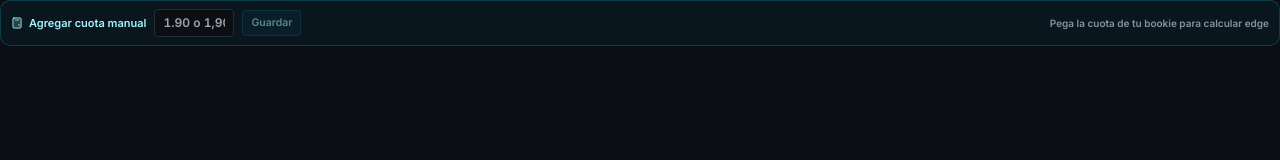
manual_odds_button_shows_recalculating
Later steps or results of the test are not shown.
Type "1.90" into the field with test id "inline-manual-odds-input-field".
click(194, 23); type("1.90")  # box [154, 9, 234, 37]
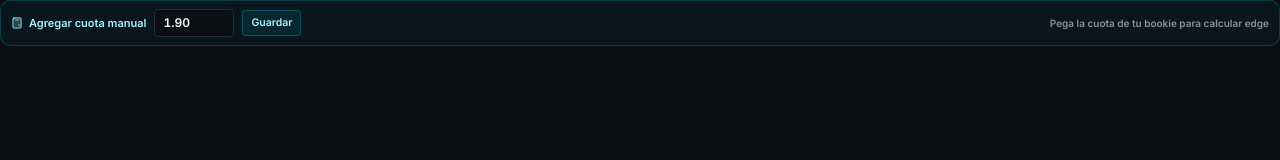
Click the button with test id "inline-manual-odds-input-submit".
click(272, 23)  # box [242, 10, 301, 36]
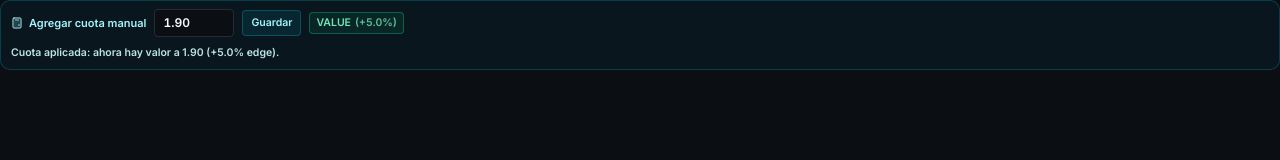
expect the element with test id "inline-manual-odds-input-decision" is shown: met, box [310, 12, 404, 34]
